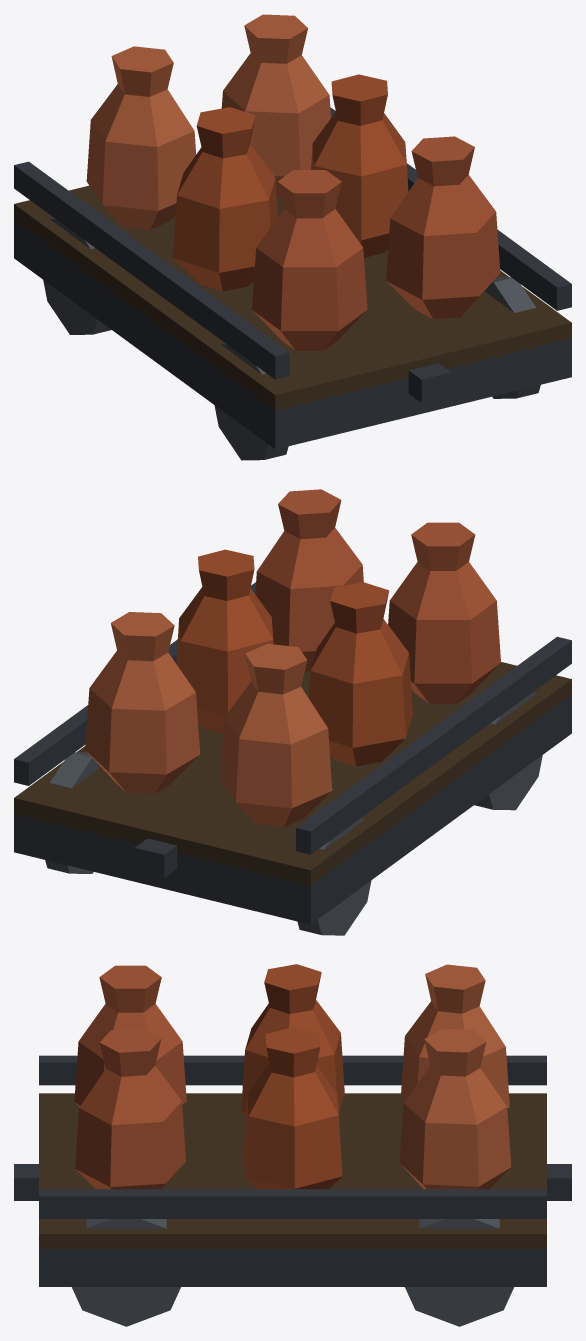
File: wagon_clay.glb
3 views of the same model, one above another, from view 1: azimuth 30°, elevation 25°; view 2: azimuth 150°, elevation 25°; view 3: azimuth 270°, elevation 25° (orthographic). The views are drawn at different scales.
Visible parts, largest first — view 1: wagon_clay; view 2: wagon_clay; view 3: wagon_clay.
Boxes of the visible parts, box(x1,y1,x2,y2) form: wagon_clay: box(14, 14, 571, 460); wagon_clay: box(14, 489, 571, 935); wagon_clay: box(14, 964, 571, 1326).
Size of the model in its own units: 0.8 by 0.67 by 1.34.
